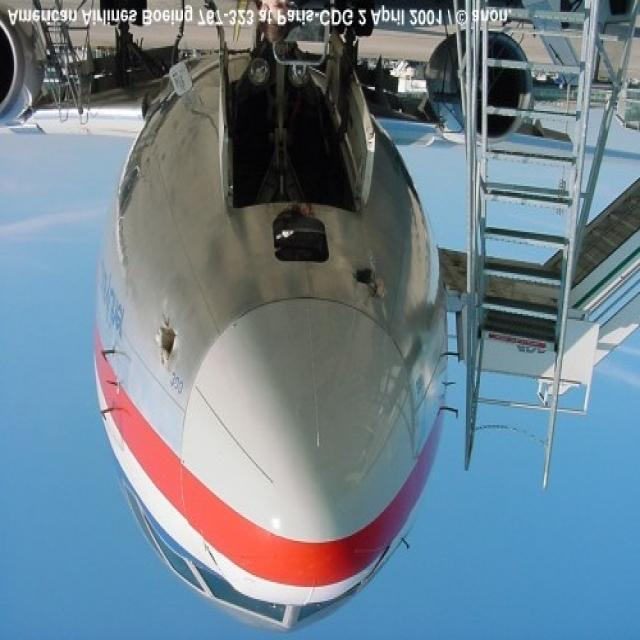dent: (347, 260, 388, 303), (155, 325, 194, 366)
